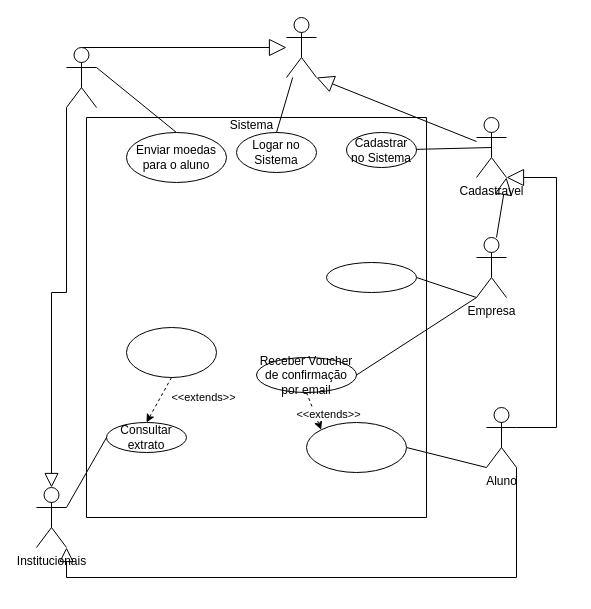
Some shapes in this 591 by 609 pixel diagram are drawn without their labels. The centre of each missing label's shape, as x and y in pixels:
Gerenciar Vantagens: pixel 371 277
Professor: pixel 81 77
Receber email da transação: pixel 171 352
Resgatar vantagens com as moedas: pixel 356 447
Usuario: pixel 301 47
